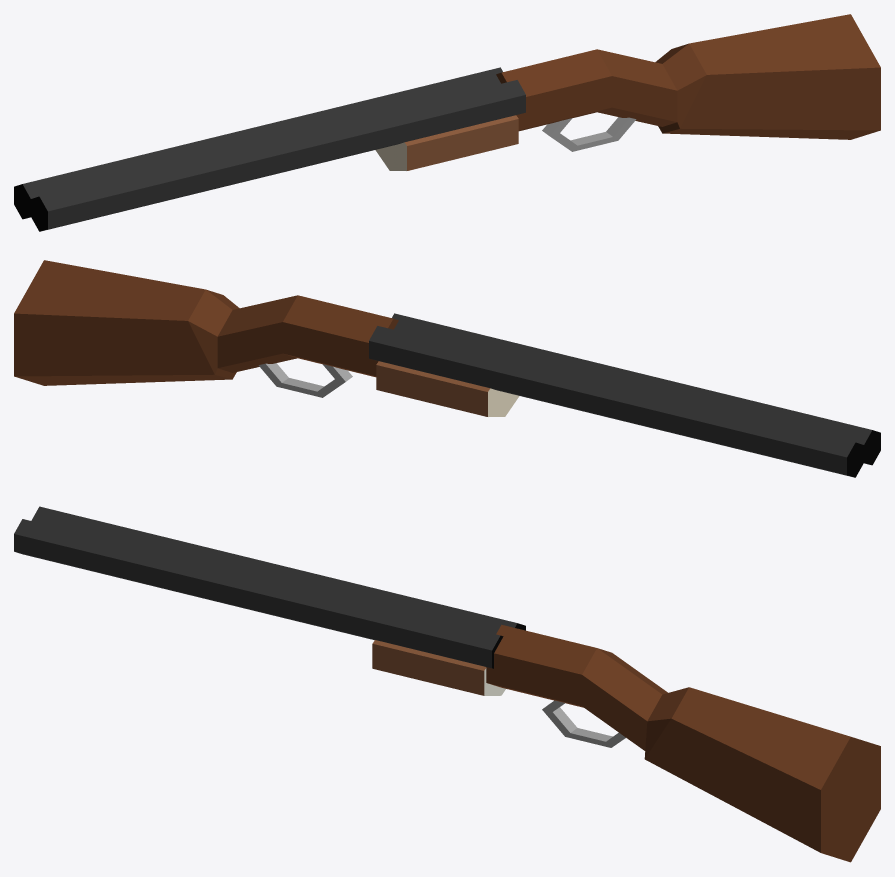
The model's file is DoubleBarrelShotgun.fbx.
3 renders of one model, top to bottom at view 1: azimuth 30°, elevation 25°; view 2: azimuth 150°, elevation 25°; view 3: azimuth 330°, elevation 25°, orthographic.
Parts seen in each view (by area): view 1: DoubleBarrelShotgun; view 2: DoubleBarrelShotgun; view 3: DoubleBarrelShotgun.
Part boxes in pixels (x1=…): DoubleBarrelShotgun: x1=14, y1=14, x2=880, y2=231; DoubleBarrelShotgun: x1=14, y1=260, x2=880, y2=477; DoubleBarrelShotgun: x1=14, y1=506, x2=880, y2=862.
Size of the model in its own units: 138 by 24.49 by 17.49.
Materials: 1 (1 with a texture image).
